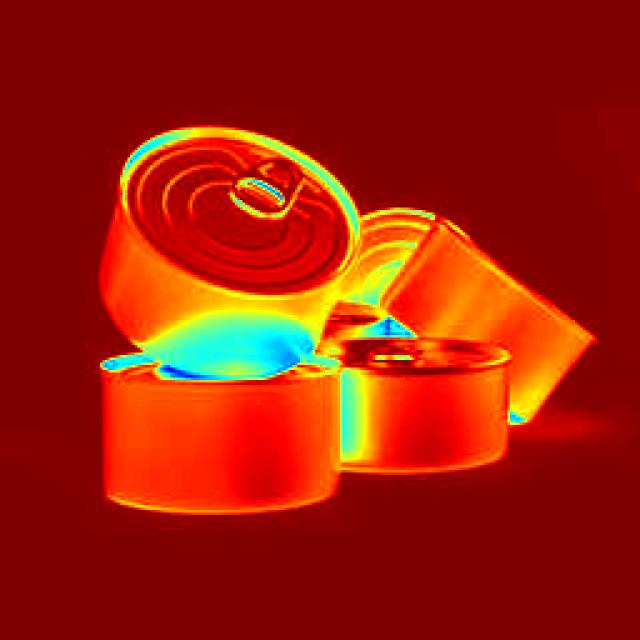Aluminium Food Cans: (27, 68, 614, 542)
